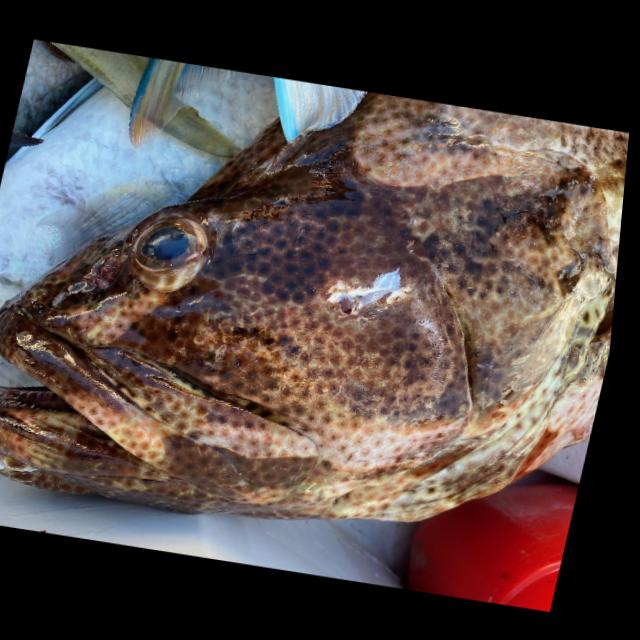Groupers: (0, 37, 637, 575)
